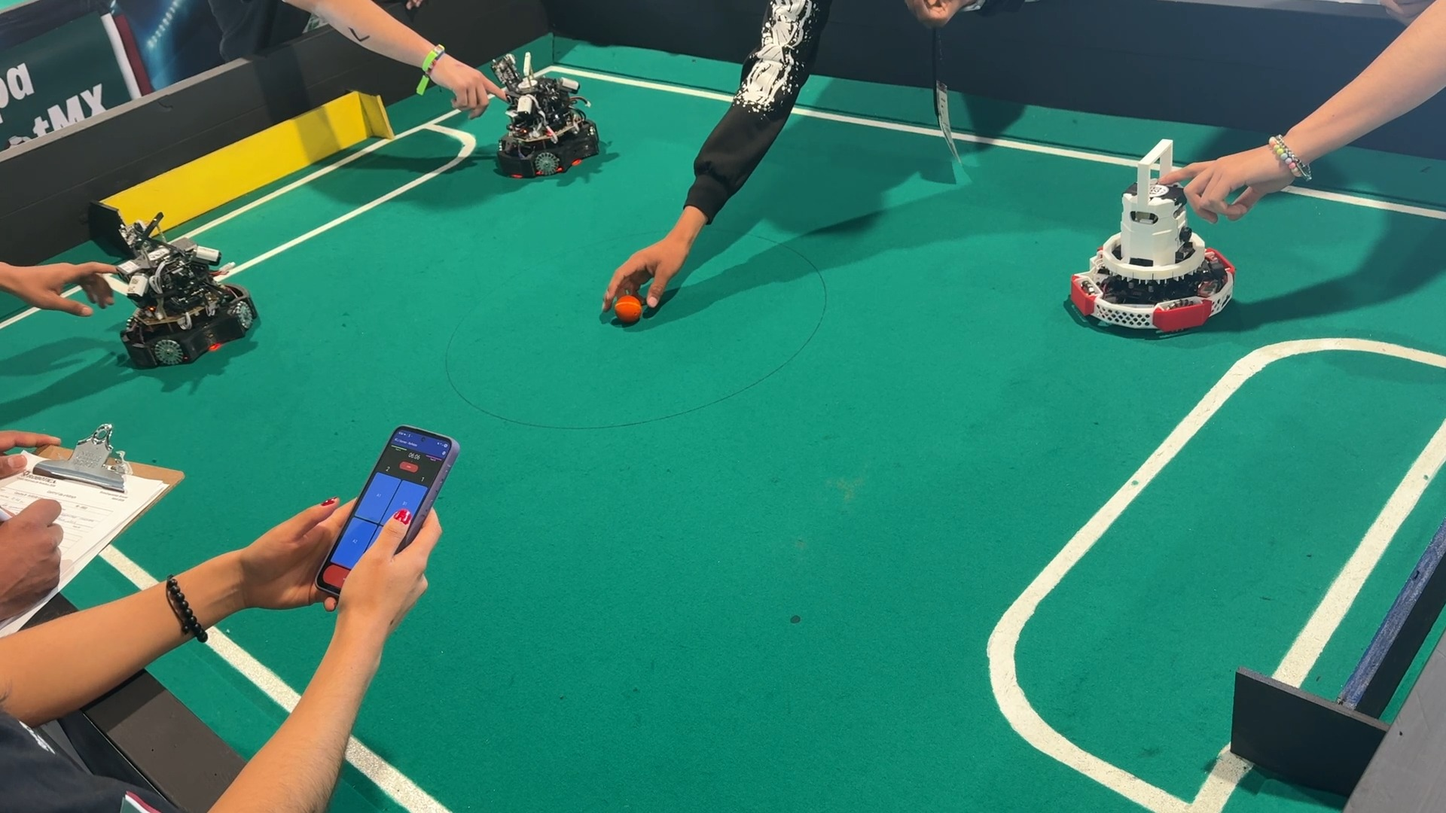Robot: (1060, 133, 1248, 355), (110, 211, 269, 387), (476, 29, 624, 193)
pelota: (604, 285, 656, 334)
